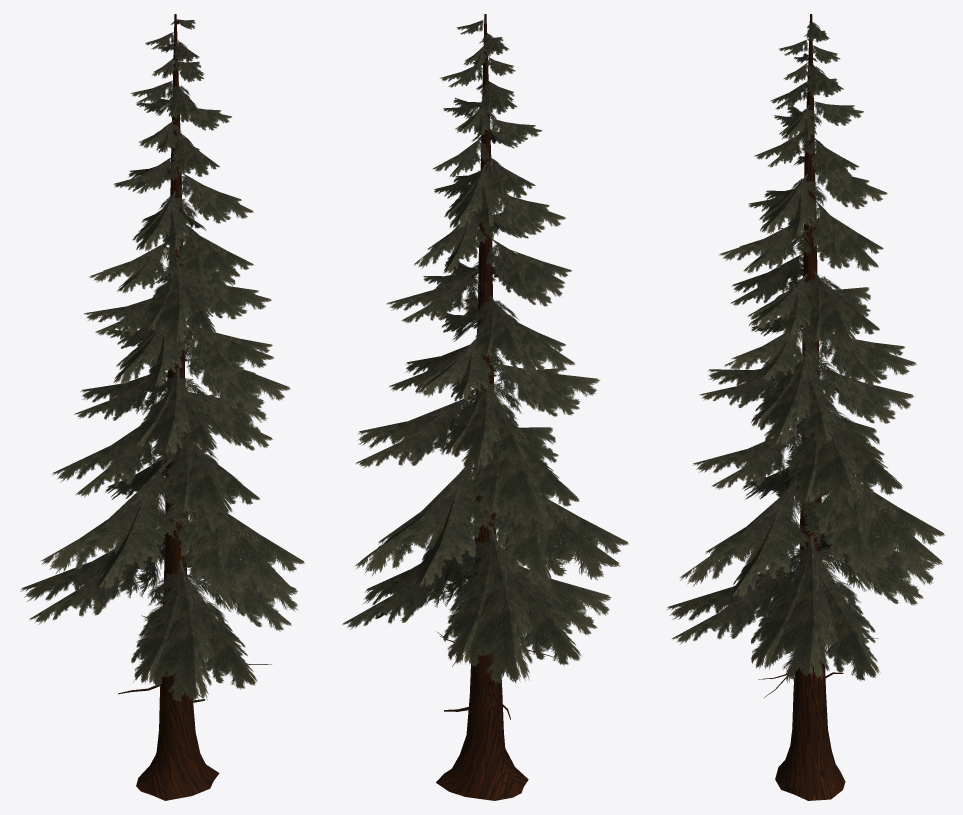
Rendered from pineTree.gltf.
The picture shows the model from 3 angles, left to right: view 1: azimuth 30°, elevation 25°; view 2: azimuth 150°, elevation 25°; view 3: azimuth 270°, elevation 25°; orthographic projection.
Visible parts, largest first — view 1: Plane.002, Circle.001, Plane.006, Plane.005, Plane.001, Plane.012, Plane.009, Plane.016, Plane.008, Plane.010, Plane.013, Plane.015 (+16 smaller); view 2: Plane.001, Circle.001, Plane.005, Plane.003, Plane.008, Plane.011, Plane.004, Plane.007, Plane.012, Plane.018, Plane.021, Plane.014 (+16 smaller); view 3: Plane.004, Circle.001, Plane.003, Plane.006, Plane.007, Plane.010, Plane.002, Plane.017, Plane.014, Plane.009, Plane.001, Plane.020 (+16 smaller).
Part boxes in pixels (x1,y1,x2,y2): Plane.002: (131, 560, 257, 702); Circle.001: (136, 14, 219, 800); Plane.006: (166, 500, 304, 600); Plane.005: (40, 459, 200, 590); Plane.001: (20, 525, 164, 624); Plane.012: (132, 367, 217, 456); Plane.009: (165, 433, 259, 518); Plane.016: (144, 258, 215, 343); Plane.008: (52, 426, 175, 497); Plane.010: (184, 345, 290, 411); Plane.013: (182, 324, 274, 377); Plane.015: (113, 323, 198, 387); Plane.001: (443, 526, 580, 684); Circle.001: (436, 14, 528, 800); Plane.005: (478, 488, 628, 585); Plane.003: (355, 461, 514, 587); Plane.008: (469, 432, 579, 526); Plane.011: (443, 374, 526, 468); Plane.004: (342, 533, 474, 629); Plane.007: (355, 394, 475, 468); Plane.012: (493, 364, 600, 416); Plane.018: (475, 295, 546, 361); Plane.021: (486, 239, 571, 295); Plane.014: (416, 336, 505, 401); Plane.004: (751, 535, 880, 682); Circle.001: (775, 14, 845, 800); Plane.003: (808, 482, 945, 574); Plane.006: (679, 482, 827, 598); Plane.007: (788, 410, 902, 503); Plane.010: (751, 348, 842, 446); Plane.002: (667, 555, 799, 644); Plane.017: (801, 271, 879, 347); Plane.014: (818, 332, 916, 386); Plane.009: (692, 430, 803, 489); Plane.001: (789, 525, 935, 605); Plane.020: (805, 200, 883, 271).
Bounding box in the file's own units: 11.47 × 31.78 × 10.82.
2 materials, 2 textured.
